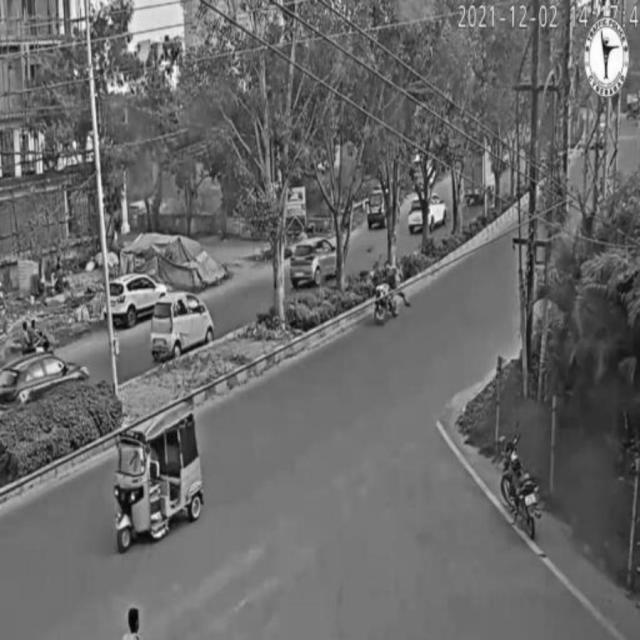accident: (375, 260, 411, 324)
vehicle: (115, 404, 207, 550), (3, 349, 91, 403), (502, 435, 544, 543), (150, 296, 217, 357), (102, 275, 173, 325), (291, 234, 342, 288), (409, 191, 449, 233)
